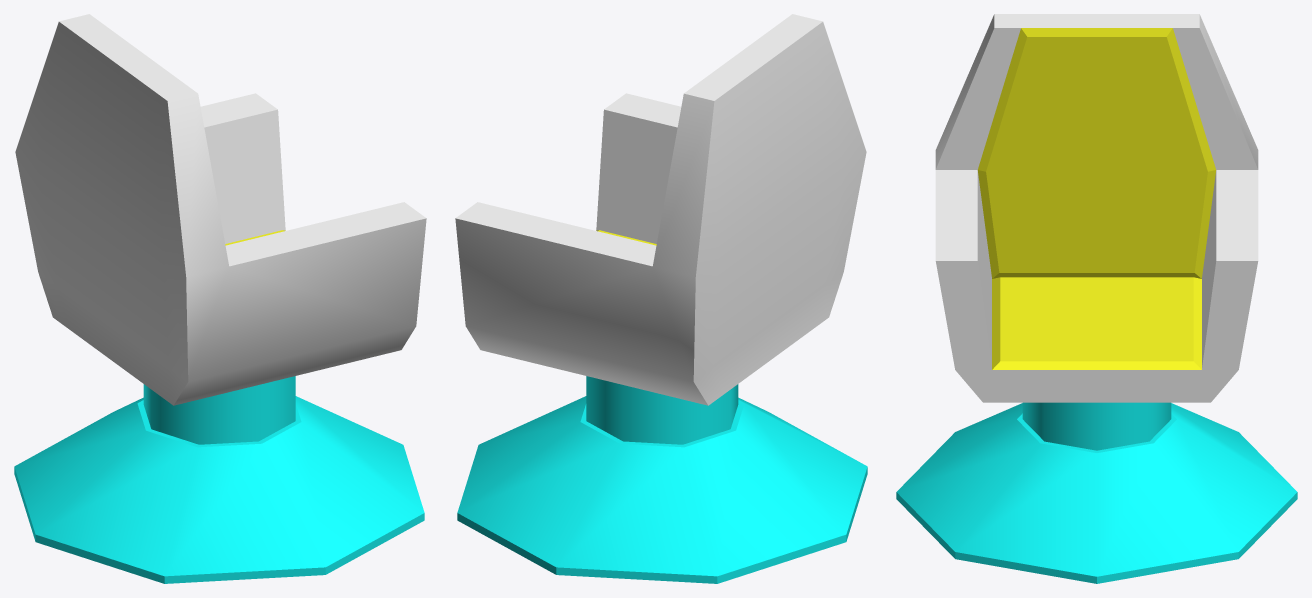
File: Chair.fbx
3 views of the same model, side by side, from view 1: azimuth 30°, elevation 25°; view 2: azimuth 150°, elevation 25°; view 3: azimuth 270°, elevation 25° (orthographic). The views are drawn at different scales.
Parts seen in each view (by area): view 1: Chair, Base; view 2: Chair, Base; view 3: Chair, Base.
Part boxes in pixels (bbox=[...]): Chair: bbox=[15, 14, 426, 405]; Base: bbox=[14, 376, 424, 583]; Chair: bbox=[455, 14, 866, 405]; Base: bbox=[457, 376, 867, 583]; Chair: bbox=[935, 14, 1258, 402]; Base: bbox=[896, 402, 1297, 583].
Size of the model in its own units: 19.69 by 23.62 by 19.69.
